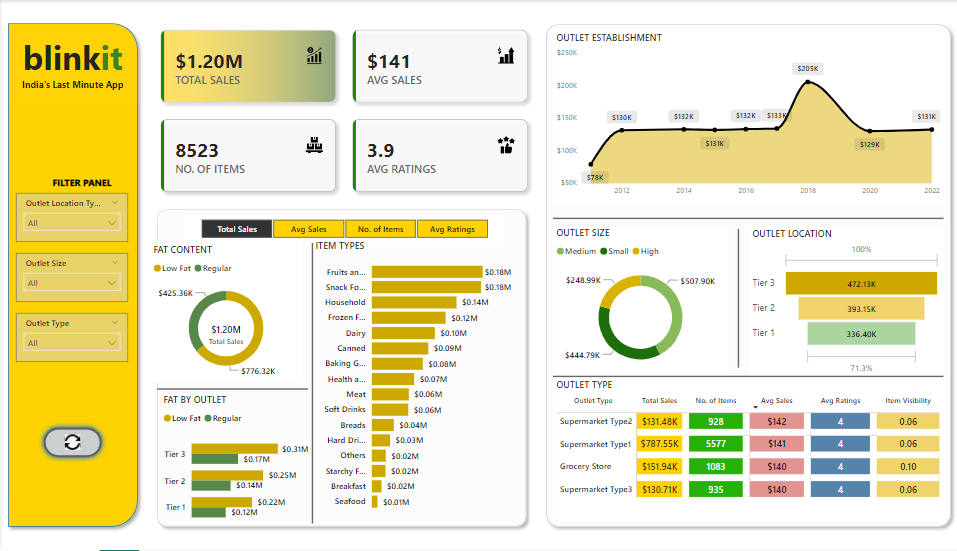

What the dashboard file says about the page in this screenshot:
{"tool":"powerbi","page":{"name":"Dashboard","canvas":[1400,800],"ordinal":0},"visuals":[{"type":"cardVisual","fields":{"Data":["BlinkIT Grocery Data.Total Sales","BlinkIT Grocery Data.Avg Sales","BlinkIT Grocery Data.No. of Items","BlinkIT Grocery Data.Avg Ratings"]},"box":[213.1,25.7,569.6,270.1],"z":1000,"group":"g1"},{"type":"shape","box":[0,24,206.4,750.4],"z":1500,"group":"g1"},{"type":"textbox","box":[0,44.1,205.8,104.7],"z":2000,"group":"g1"},{"type":"shape","box":[216.8,294,554.9,479.5],"z":3000,"group":"g1"},{"type":"donutChart","title":"FAT CONTENT","fields":{"Y":["BlinkIT Grocery Data.Total Sales"],"Category":["BlinkIT Grocery Data.Item Fat Content"]},"box":[215.3,352.3,221.3,203.2],"z":4000,"group":"g1"},{"type":"slicer","fields":{"Values":["Matrix.Matrix"]},"box":[264,312,465.6,40],"z":5000,"group":"g1"},{"type":"cardVisual","fields":{"Data":["BlinkIT Grocery Data.Total Sales"]},"box":[273.6,452.8,105.6,62.4],"z":6000,"group":"g1"},{"type":"clusteredBarChart","title":"FAT BY OUTLET","fields":{"Y":["BlinkIT Grocery Data.Total Sales"],"Category":["BlinkIT Grocery Data.Outlet Location Type"],"Series":["BlinkIT Grocery Data.Item Fat Content"]},"box":[230.3,570.5,221.3,203.2],"z":7000,"group":"g1"},{"type":"shape","box":[225.5,544,219.6,40.7],"z":8000,"group":"g1"},{"type":"shape","box":[436.8,352,30.4,408],"z":9000,"group":"g1"},{"type":"barChart","title":"ITEM TYPES","fields":{"Y":["BlinkIT Grocery Data.Total Sales"],"Category":["BlinkIT Grocery Data.Item Type"]},"box":[451.6,346.2,295.1,404.9],"z":10000,"group":"g1"},{"type":"shape","box":[782.4,25.6,606.4,748.8],"z":11000,"group":"g1"},{"type":"lineChart","title":"OUTLET  ESTABLISHMENT","fields":{"Category":["BlinkIT Grocery Data.Outlet Establishment Year"],"Y":["BlinkIT Grocery Data.Total Sales"]},"box":[801.6,44.8,568,249.6],"z":12000,"group":"g1"},{"type":"shape","box":[801.6,294.4,568,44.8],"z":13000,"group":"g1"},{"type":"donutChart","title":"OUTLET SIZE","fields":{"Y":["BlinkIT Grocery Data.Total Sales","BlinkIT Grocery Data.Total Sales"],"Category":["BlinkIT Grocery Data.Outlet Size"]},"box":[801.6,328,254.4,220.8],"z":14000,"group":"g1"},{"type":"shape","box":[1056,332.8,30.4,201.6],"z":15000,"group":"g1"},{"type":"funnel","title":"OUTLET LOCATION","fields":{"Category":["BlinkIT Grocery Data.Outlet Location Type"],"Y":["Sum(BlinkIT Grocery Data.Sales)"]},"box":[1086.5,328.7,283.6,219.6],"z":16000,"group":"g1"},{"type":"shape","box":[801.6,524.8,568,44.8],"z":17000,"group":"g1"},{"type":"pivotTable","title":"OUTLET TYPE","fields":{"Rows":["BlinkIT Grocery Data.Outlet Type"],"Values":["BlinkIT Grocery Data.Total Sales","BlinkIT Grocery Data.No. of Items","BlinkIT Grocery Data.Avg Sales","BlinkIT Grocery Data.Avg Ratings","Avg(BlinkIT Grocery Data.Item Visibility)"]},"box":[801.6,548.8,568,208],"z":18000,"group":"g1"},{"type":"textbox","box":[64,250.2,104.7,30.5],"z":22000,"group":"g1"},{"type":"group","id":"g1","title":"Group 1","box":[0,24,1388.8,750.4],"z":22003},{"type":"slicer","fields":{"Values":["BlinkIT Grocery Data.Outlet Location Type"]},"box":[21.1,280,162.6,70.8],"z":22500,"group":"g1"},{"type":"slicer","fields":{"Values":["BlinkIT Grocery Data.Outlet Size"]},"box":[21.1,367.3,162.6,70.8],"z":22750,"group":"g1"},{"type":"slicer","fields":{"Values":["BlinkIT Grocery Data.Outlet Type"]},"box":[21.1,454.6,162.6,70.8],"z":22875,"group":"g1"},{"type":"actionButton","box":[52.8,612.8,100.8,59.2],"z":23500,"group":"g1"}]}

Visuals, with their boxes in screenshot pixels (x1, y1, x2, y2), scaled from the page's 1400x800 canvas onto the 957x551 screenshot:
cardVisual - BlinkIT Grocery Data.Total Sales x BlinkIT Grocery Data.Avg Sales: l=146, t=18, r=535, b=204
shape: l=0, t=17, r=141, b=533
textbox: l=0, t=30, r=141, b=102
shape: l=148, t=202, r=528, b=533
"FAT CONTENT" donutChart: l=147, t=243, r=298, b=383
slicer - Matrix.Matrix: l=180, t=215, r=499, b=242
cardVisual - BlinkIT Grocery Data.Total Sales: l=187, t=312, r=259, b=355
"FAT BY OUTLET" clusteredBarChart: l=157, t=393, r=309, b=533
shape: l=154, t=375, r=304, b=403
shape: l=299, t=242, r=319, b=523
"ITEM TYPES" barChart: l=309, t=238, r=510, b=517
shape: l=535, t=18, r=949, b=533
"OUTLET  ESTABLISHMENT" lineChart: l=548, t=31, r=936, b=203
shape: l=548, t=203, r=936, b=234
"OUTLET SIZE" donutChart: l=548, t=226, r=722, b=378
shape: l=722, t=229, r=743, b=368
"OUTLET LOCATION" funnel: l=743, t=226, r=937, b=378
shape: l=548, t=361, r=936, b=392
"OUTLET TYPE" pivotTable: l=548, t=378, r=936, b=521
textbox: l=44, t=172, r=115, b=193
"Group 1" group: l=0, t=17, r=949, b=533
slicer - BlinkIT Grocery Data.Outlet Location Type: l=14, t=193, r=126, b=242
slicer - BlinkIT Grocery Data.Outlet Size: l=14, t=253, r=126, b=302
slicer - BlinkIT Grocery Data.Outlet Type: l=14, t=313, r=126, b=362
actionButton: l=36, t=422, r=105, b=463
